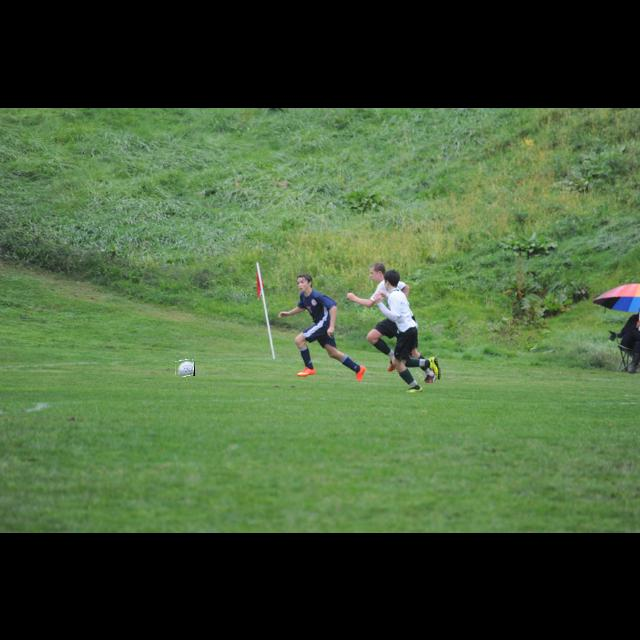Football: (175, 360, 195, 376)
